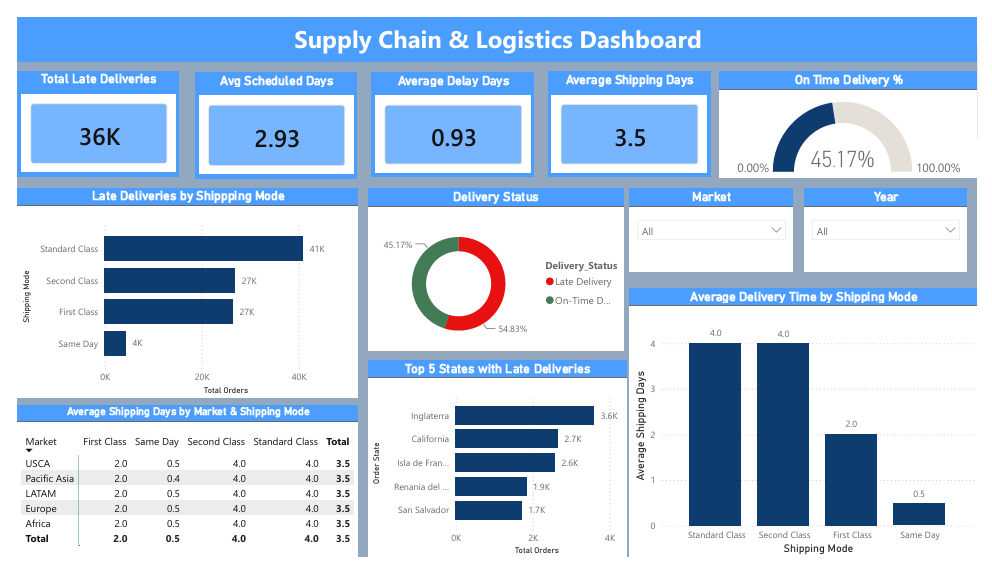

The page's visual inventory and layout, read from the dashboard file:
{"tool":"powerbi","page":{"name":"Supply Chain Logistics","canvas":[1280,720],"ordinal":2},"visuals":[{"type":"cardVisual","title":"Avg Scheduled Days","fields":{"Data":["DataCo_Cleaned.Late Delivery %"]},"box":[236.9,73.3,216.5,141.5],"z":0},{"type":"cardVisual","title":"Average Delay Days","fields":{"Data":["DataCo_Cleaned.Average Delay Days"]},"box":[472.2,73.3,216.5,139.8],"z":1000},{"type":"textbox","box":[0,0,1280.3,58.7],"z":2000},{"type":"cardVisual","title":"Average Shipping Days","fields":{"Data":["DataCo_Cleaned.Average_Shipping_Days"]},"box":[707.4,71.6,216.5,141.5],"z":3000},{"type":"slicer","title":"Year","fields":{"Values":["DataCo_Cleaned.Year"]},"box":[1048.7,227.6,217.1,111.9],"z":4000},{"type":"slicer","title":"Market","fields":{"Values":["DataCo_Cleaned.Market"]},"box":[816,227.6,217.5,111.3],"z":5000},{"type":"clusteredColumnChart","title":"Average Delivery Time by Shipping Mode","fields":{"Category":["DataCo_Cleaned.Shipping Mode"],"Y":["DataCo_Cleaned.Average_Shipping_Days"]},"box":[816,360.8,463.7,359.1],"z":6000},{"type":"donutChart","title":"Delivery Status","fields":{"Y":["CountNonNull(DataCo_Cleaned.Order Id)"],"Category":["DataCo_Cleaned.Delivery_Status"]},"box":[466.6,227.8,341.7,216.8],"z":7000},{"type":"clusteredBarChart","title":"Late Deliveries by Shippping Mode","fields":{"Category":["DataCo_Cleaned.Shipping Mode"],"Y":["CountNonNull(DataCo_Cleaned.Order Id)"]},"box":[0,227.4,453.7,278.8],"z":8000},{"type":"cardVisual","title":"Total Late Deliveries","fields":{"Data":["DataCo_Cleaned.Late Orders"]},"box":[0,70.8,216.5,141.5],"z":9000},{"type":"pivotTable","title":"Average Shipping Days by Market & Shipping Mode","fields":{"Rows":["DataCo_Cleaned.Market"],"Columns":["DataCo_Cleaned.Shipping Mode"],"Values":["DataCo_Cleaned.Average_Shipping_Days"]},"box":[0,517.3,453.7,201.8],"z":10000},{"type":"gauge","fields":{"Y":["DataCo_Cleaned.On Time Delivery %"]},"box":[935.7,72.5,343.9,141.6],"z":11000},{"type":"clusteredBarChart","title":"Top 5 States with Late Deliveries","fields":{"Category":["DataCo_Cleaned.Order State"],"Y":["CountNonNull(DataCo_Cleaned.Order Id)"]},"box":[466.6,456.9,345.8,263.5],"z":12000}]}

Visuals, with their boxes in screenshot pixels (x1, y1, x2, y2), scaled from the page's 1280x720 canvas onto the 992x575 screenshot:
"Avg Scheduled Days" cardVisual: 184, 59, 351, 172
"Average Delay Days" cardVisual: 366, 59, 534, 170
textbox: 0, 0, 991, 47
"Average Shipping Days" cardVisual: 548, 57, 716, 170
"Year" slicer: 813, 182, 981, 271
"Market" slicer: 632, 182, 801, 271
"Average Delivery Time by Shipping Mode" clusteredColumnChart: 632, 288, 991, 574
"Delivery Status" donutChart: 362, 182, 626, 355
"Late Deliveries by Shippping Mode" clusteredBarChart: 0, 182, 352, 404
"Total Late Deliveries" cardVisual: 0, 57, 168, 170
"Average Shipping Days by Market & Shipping Mode" pivotTable: 0, 413, 352, 574
gauge - DataCo_Cleaned.On Time Delivery %: 725, 58, 991, 171
"Top 5 States with Late Deliveries" clusteredBarChart: 362, 365, 630, 574
